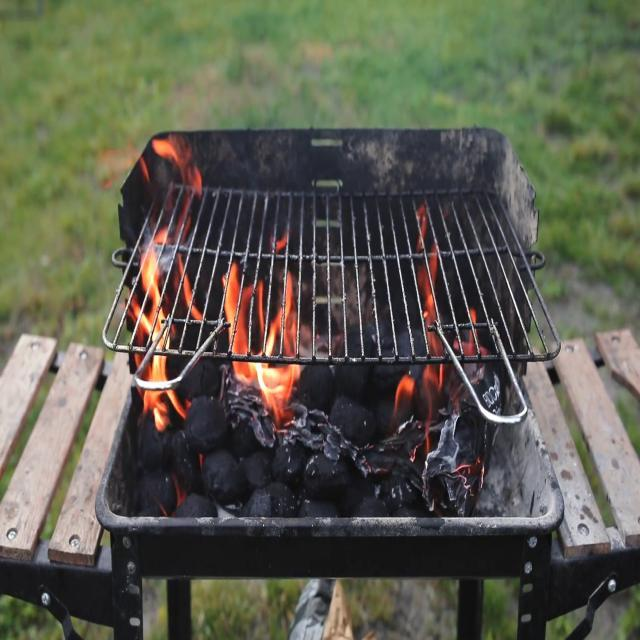Fire: (117, 128, 326, 423)
